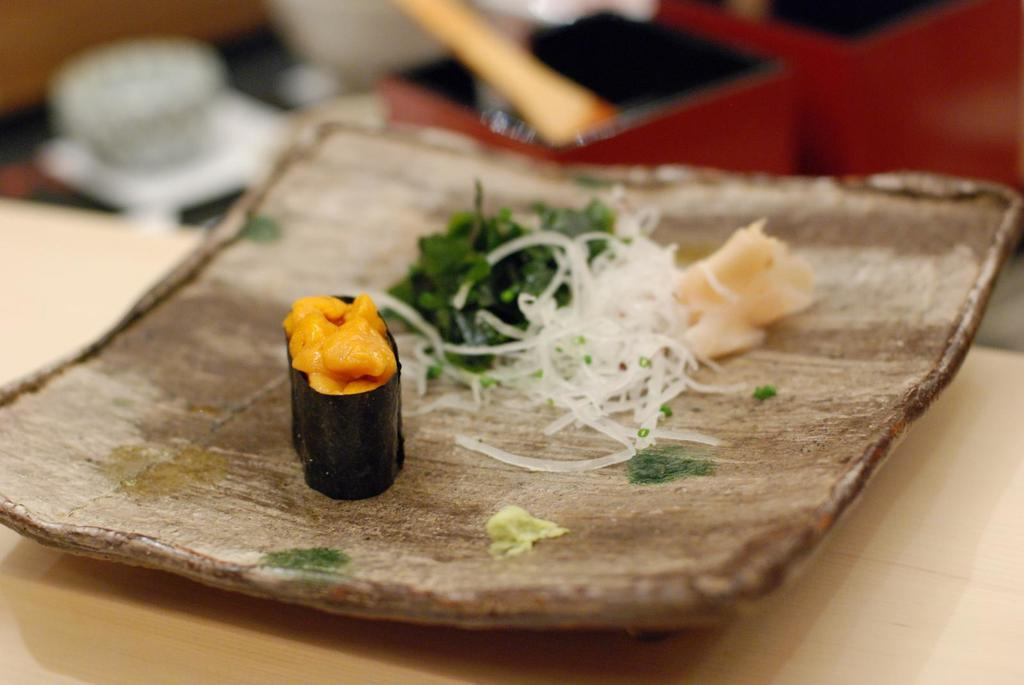sushi: (280, 307, 415, 512)
